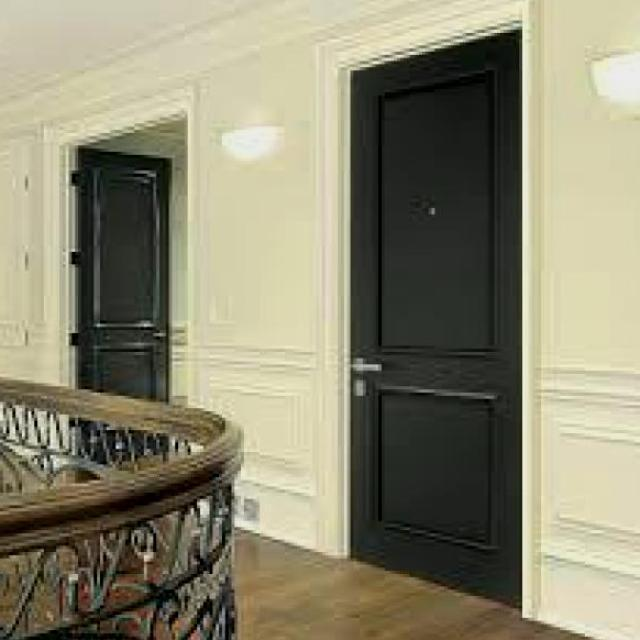door: (346, 28, 523, 609)
